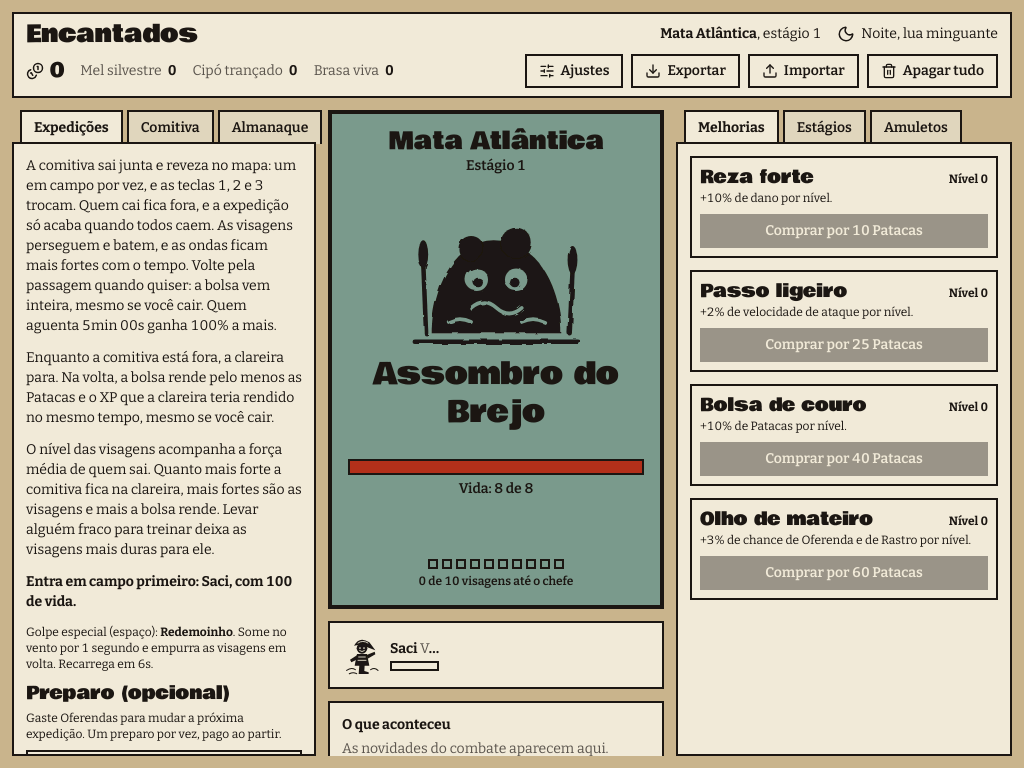
Test: cabeçalho › só apaga tudo depois de duas confirmações
Click the button "Apagar tudo": x=932, y=71 [867, 54, 998, 88]
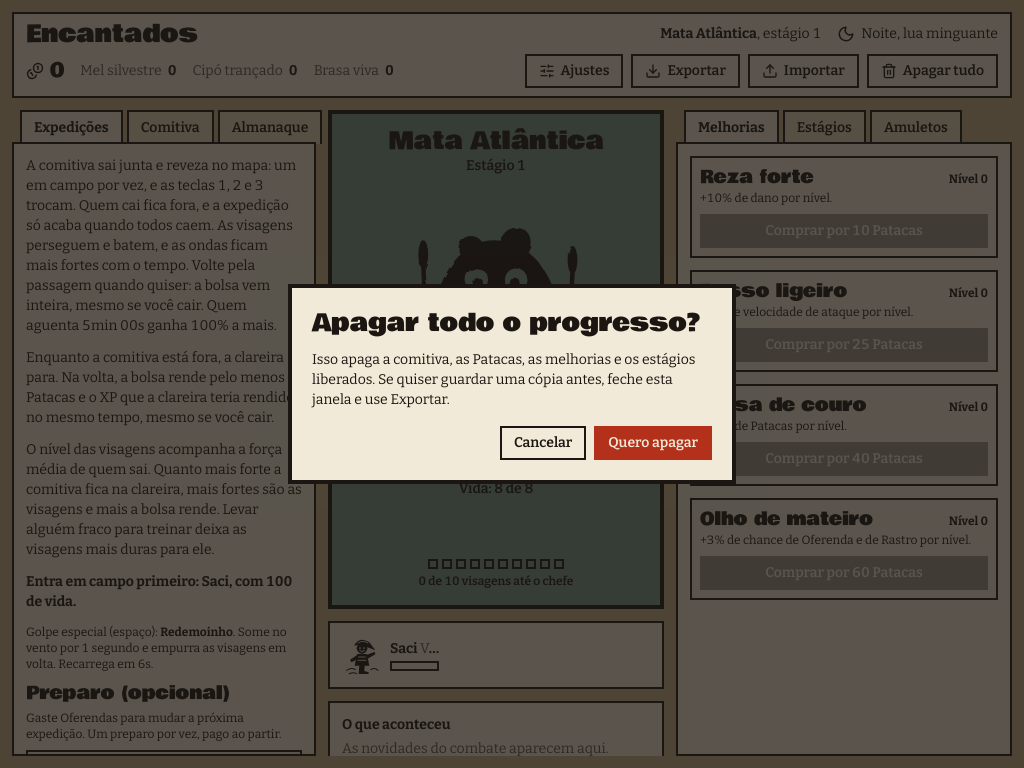
Check: the heading "Apagar todo o progresso?" is shown, box [312, 308, 712, 338]
Click the button "Cancelar": x=543, y=443 [500, 426, 586, 460]
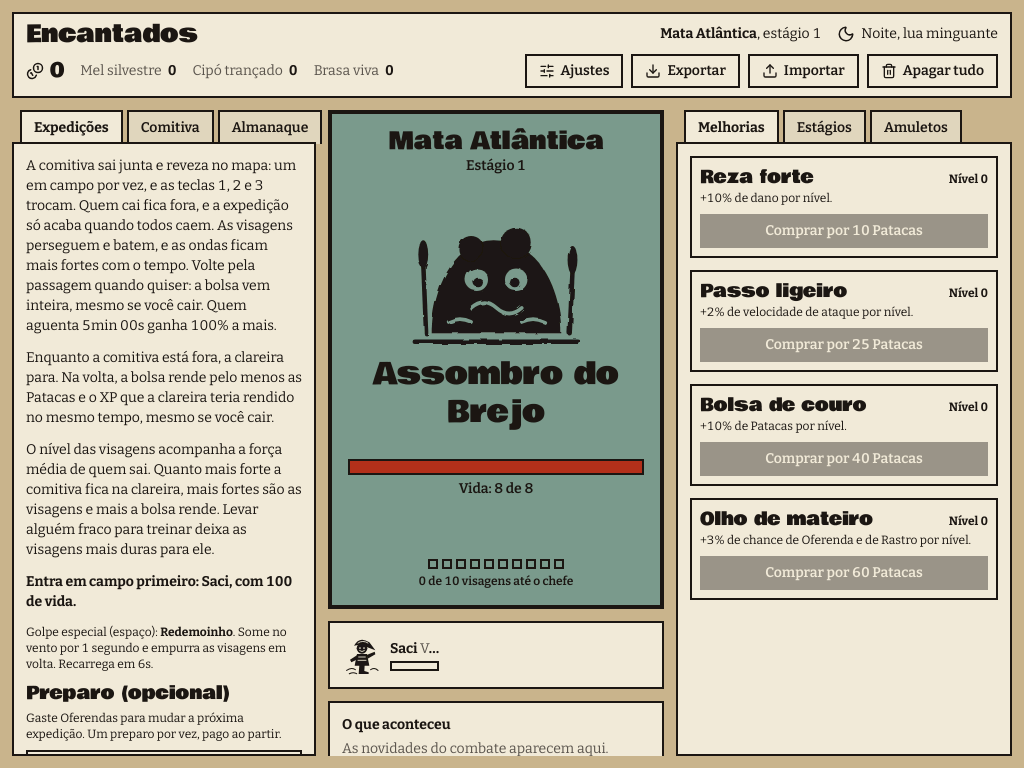
Click the button "Apagar tudo": x=932, y=71 [867, 54, 998, 88]
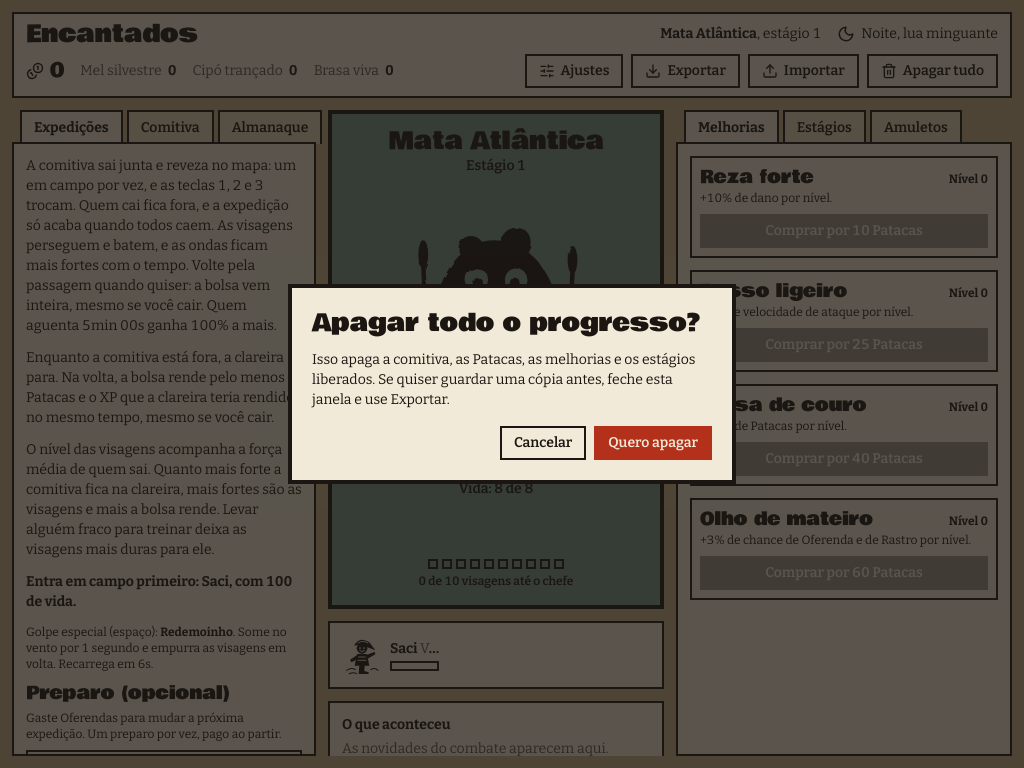
Click the button "Quero apagar": x=653, y=443 [594, 426, 712, 460]
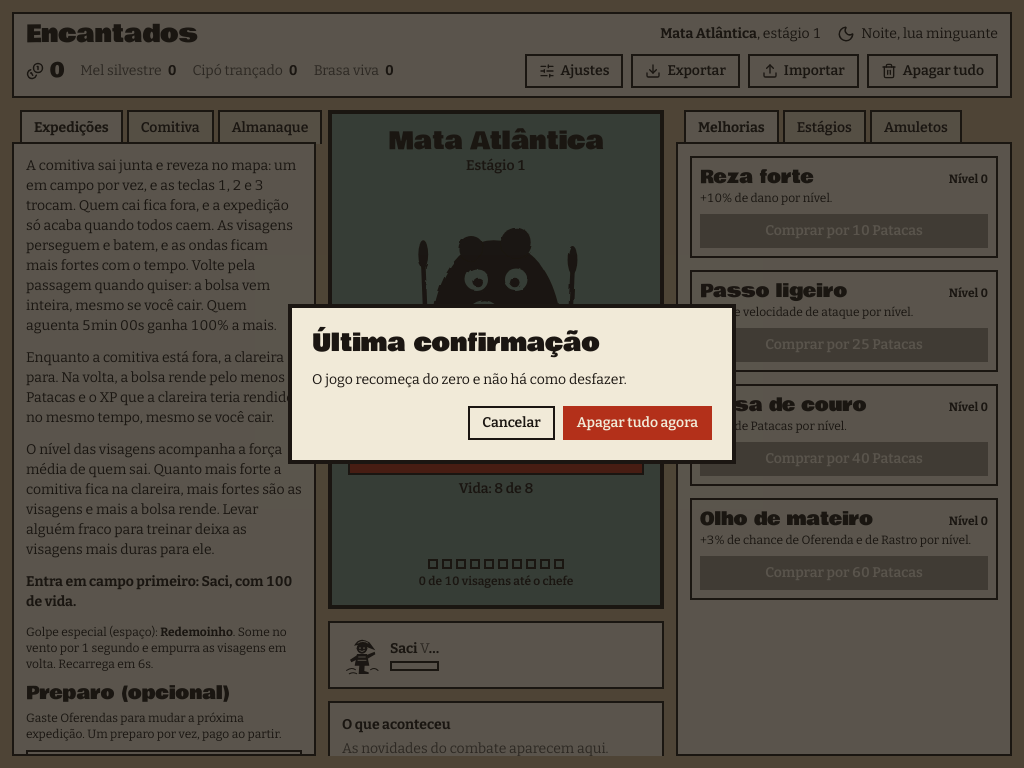
Check: the heading "Última confirmação" is shown, box [312, 324, 600, 362]
Click the button "Apagar tudo agora": x=637, y=423 [563, 406, 712, 440]
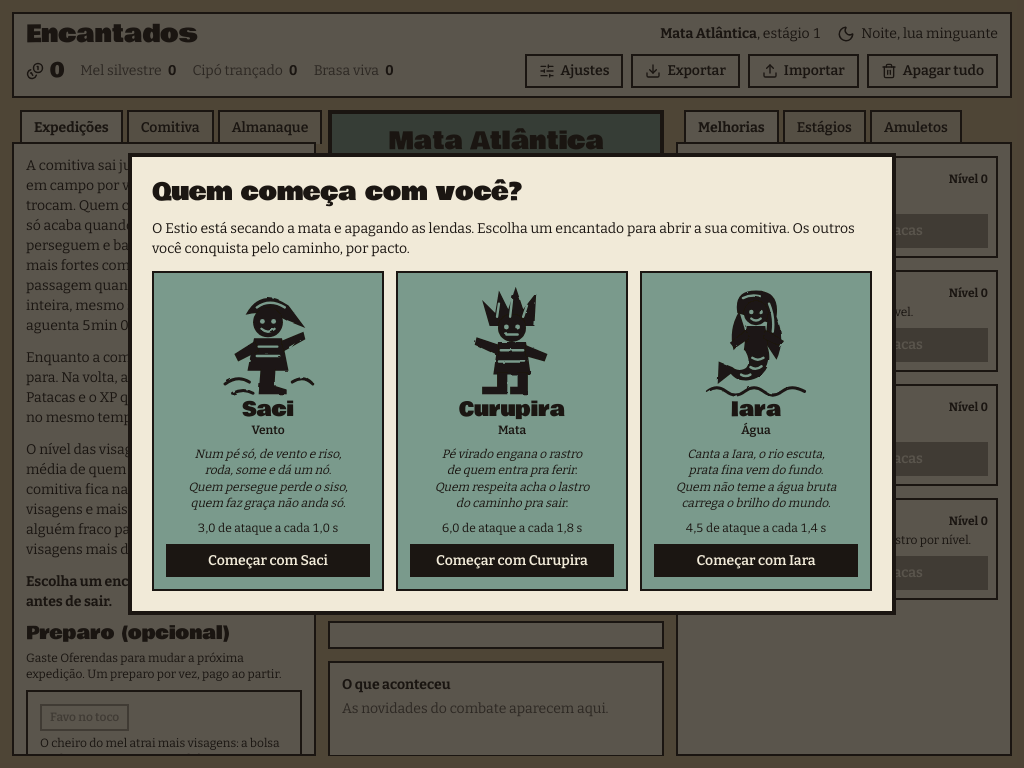
Check: the heading "Quem começa com você?" is shown, box [152, 173, 522, 211]
